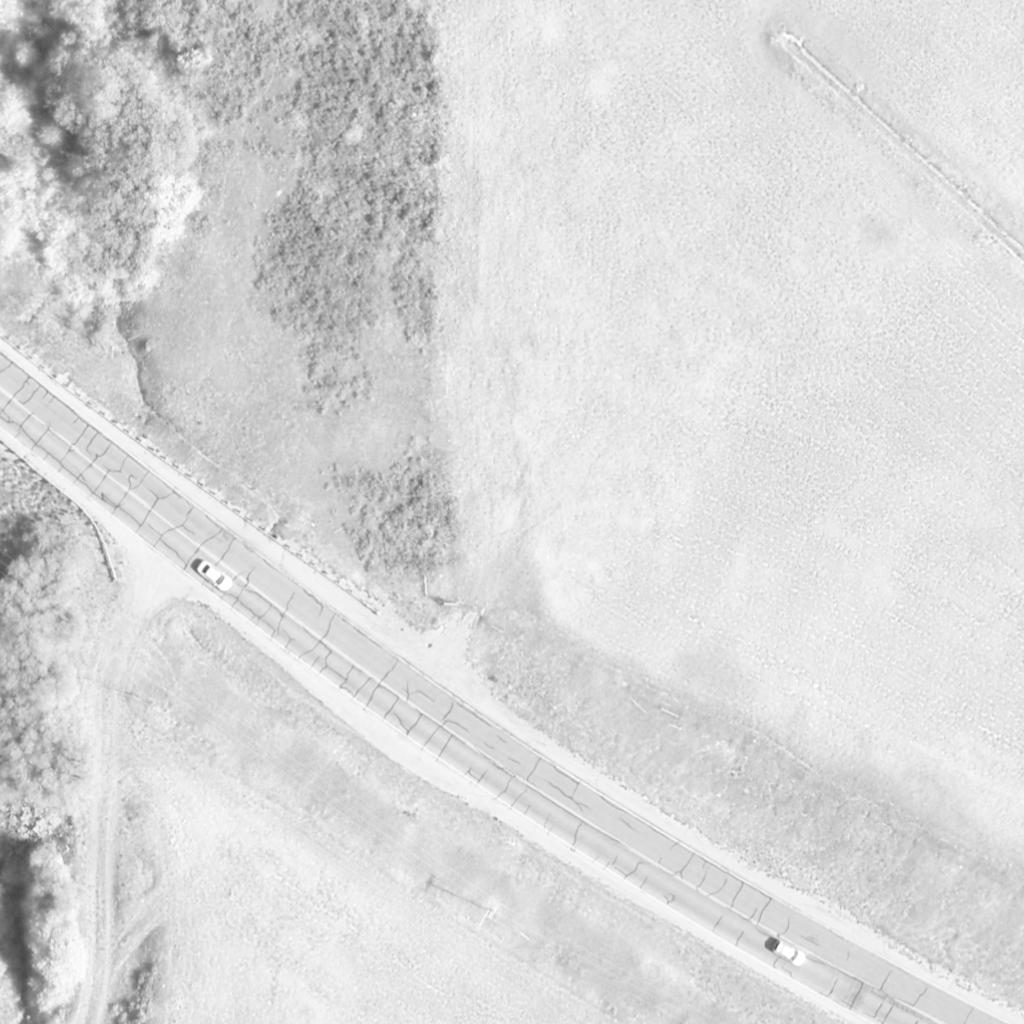vehicle: (196, 560, 236, 594), (774, 942, 806, 968)
